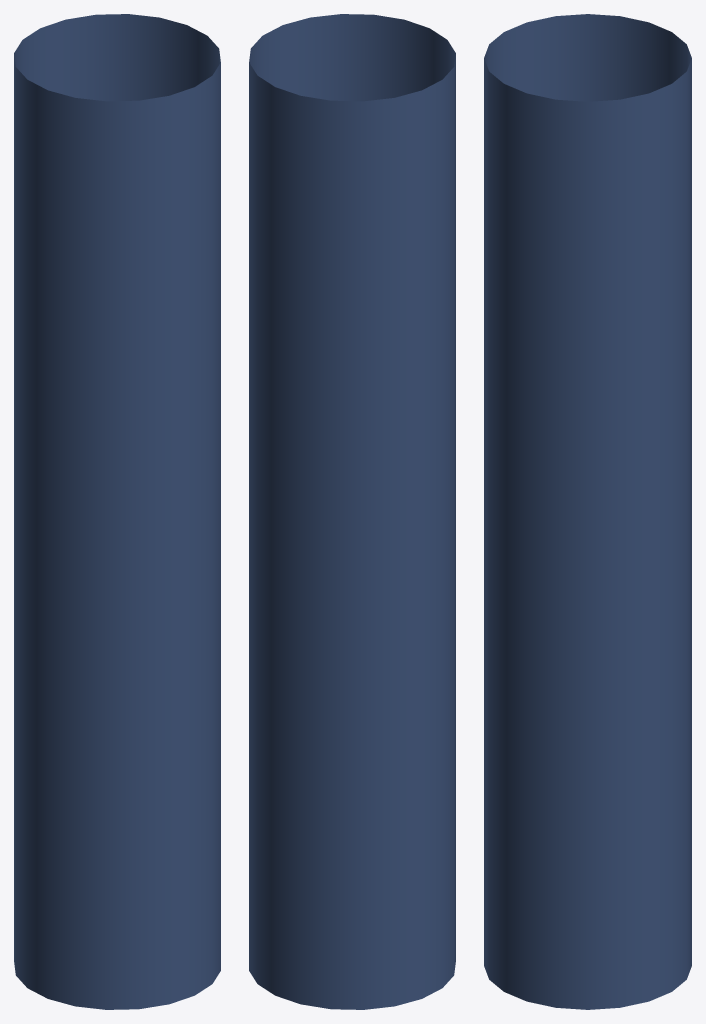
Rendered from SM_HQpillar.fbx.
3 views of the same model, side by side, from view 1: azimuth 30°, elevation 25°; view 2: azimuth 150°, elevation 25°; view 3: azimuth 270°, elevation 25° (orthographic).
Parts seen in each view (by area): view 1: sm_pillar; view 2: sm_pillar; view 3: sm_pillar.
Part boxes in pixels (x1,y1,x2,y2): sm_pillar: (14, 14, 220, 1009); sm_pillar: (249, 14, 455, 1009); sm_pillar: (484, 14, 691, 1009).
Size of the model in its own units: 179 by 865 by 179.
